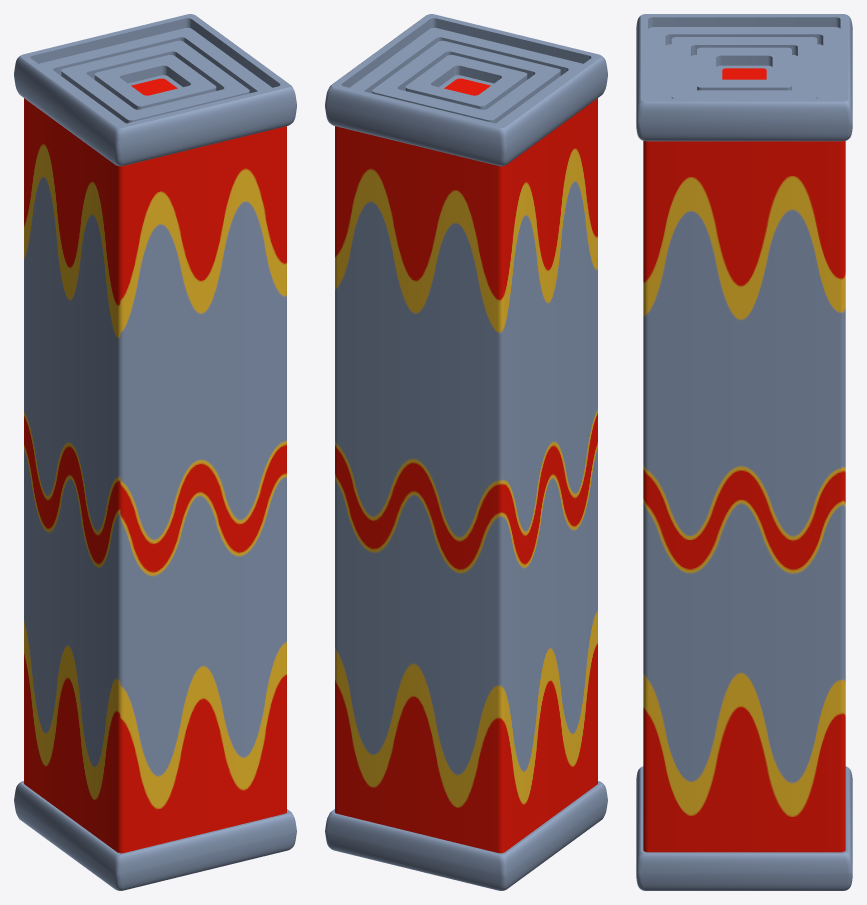
Rendered from CarnivalTinBox(4x1).fbx.
The picture shows the model from 3 angles, left to right: view 1: azimuth 30°, elevation 25°; view 2: azimuth 150°, elevation 25°; view 3: azimuth 270°, elevation 25°; orthographic projection. The views are drawn at different scales.
Visible parts, largest first — view 1: 1x4; view 2: 1x4; view 3: 1x4.
Part boxes in pixels (x1,y1,x2,y2): 1x4: (14, 14, 296, 890); 1x4: (325, 14, 607, 890); 1x4: (636, 14, 852, 890).
Bounding box in the file's own units: 2 × 8.04 × 2.
Materials: 2 (2 with a texture image).
